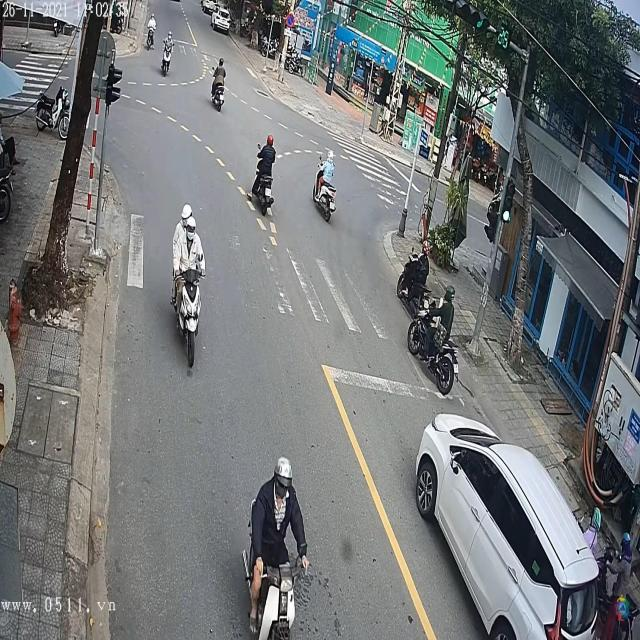car: (416, 414, 603, 638)
motorcycle: (408, 298, 460, 401), (173, 259, 203, 374), (244, 174, 275, 217), (313, 178, 336, 223), (160, 42, 172, 78), (211, 84, 227, 111)
